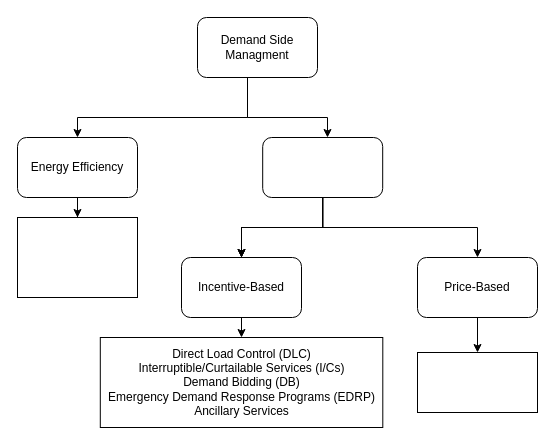
Image size: 555x445. Some labels were removed from this diagram. The shapes that lost their labels are listed below. From the top down, each one's box as (x1, y1, x2, y2) in pixels, then its label:
(262, 136, 383, 198): Demand Response Programs
(16, 216, 138, 298): Permanent Solution to reduce power consumption
(416, 352, 538, 412): TOU RTP CPP
